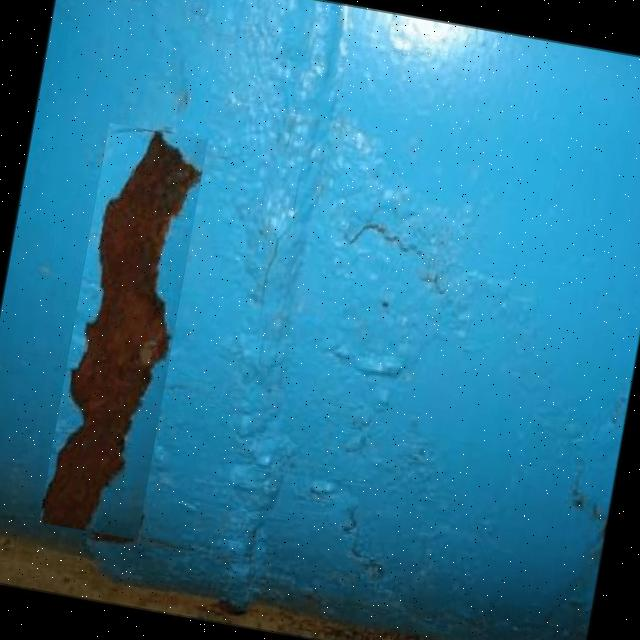Corrosion: (36, 121, 208, 540)
